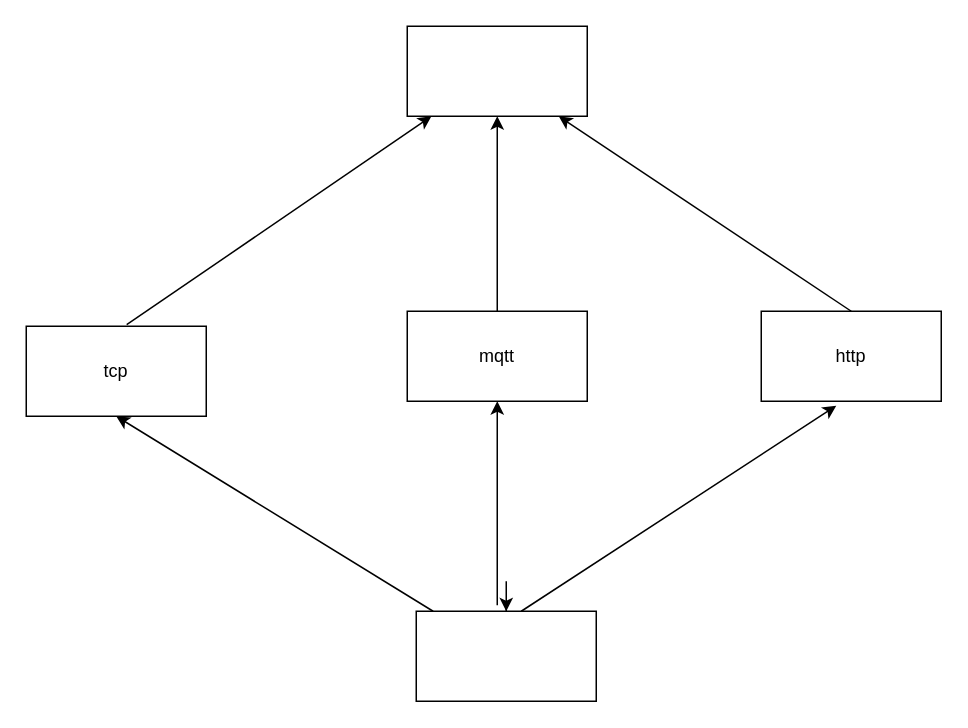
This 968x728 diagram has some shape labels left out. Here are the shapes that lost their labels. From the top down, the centre of each, then its label:
At (496,70): "transport-common".
At (505,655): "transport-service".
